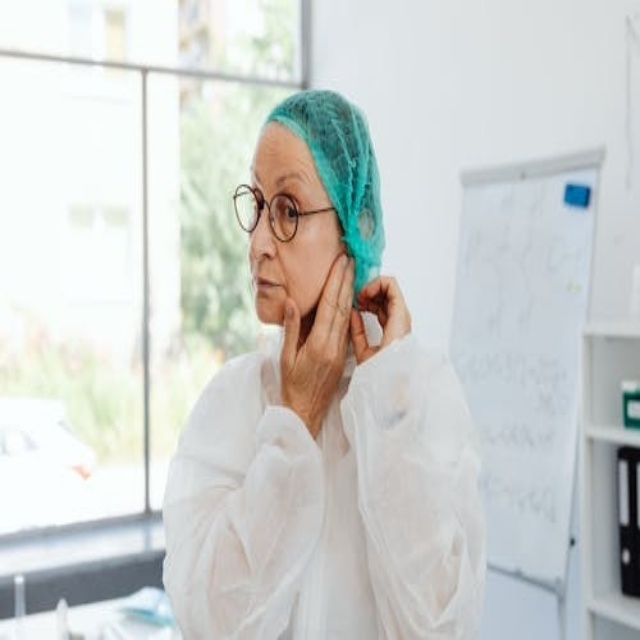Gafas: (233, 184, 343, 243)
Sin_guantes: (273, 246, 364, 425), (348, 269, 415, 377)
Sin_mascara: (248, 267, 288, 323)
